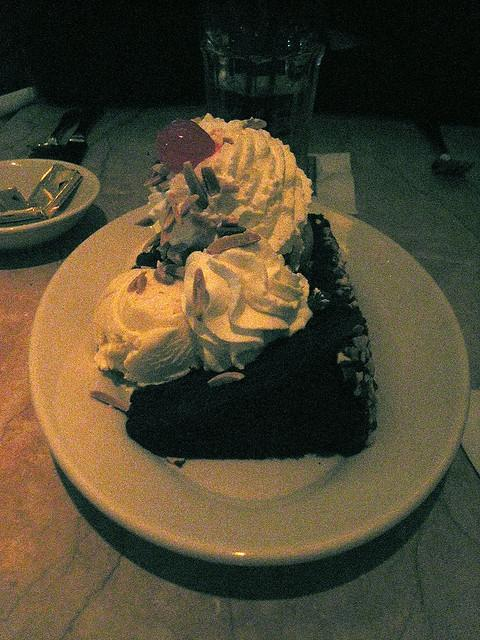cherry: (155, 120, 215, 174)
